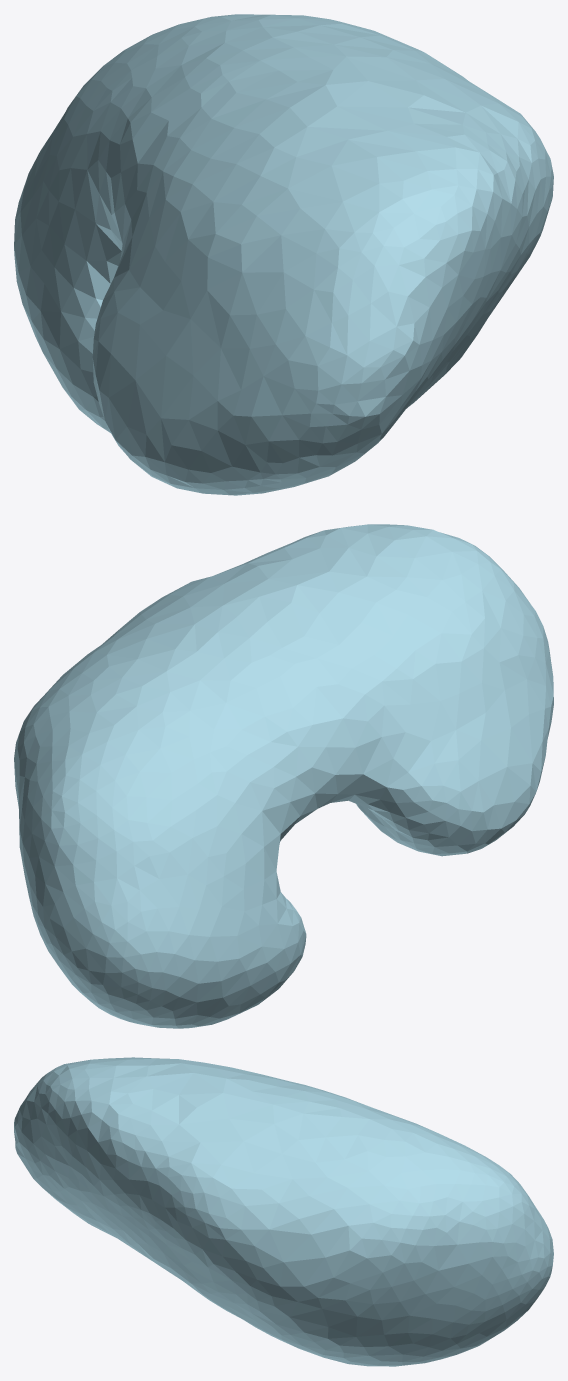
The model's file is leftkidney.obj.
The picture shows the model from 3 angles, top to bottom: view 1: azimuth 30°, elevation 25°; view 2: azimuth 150°, elevation 25°; view 3: azimuth 270°, elevation 25°; orthographic projection. The views are drawn at different scales.
Parts seen in each view (by area): view 1: grp1; view 2: grp1; view 3: grp1.
Boxes of the visible parts, left/top/right/bottom form: grp1: left=14, top=14, right=553, bottom=495; grp1: left=14, top=524, right=553, bottom=1028; grp1: left=14, top=1057, right=553, bottom=1366.
Size of the model in its own units: 76.22 by 68.19 by 119.
